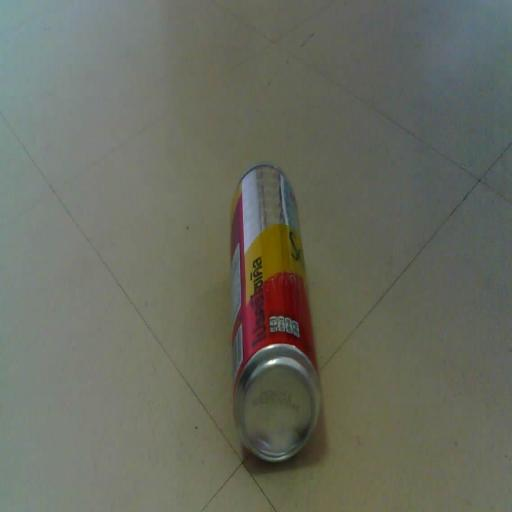canned: (221, 152, 324, 480)
